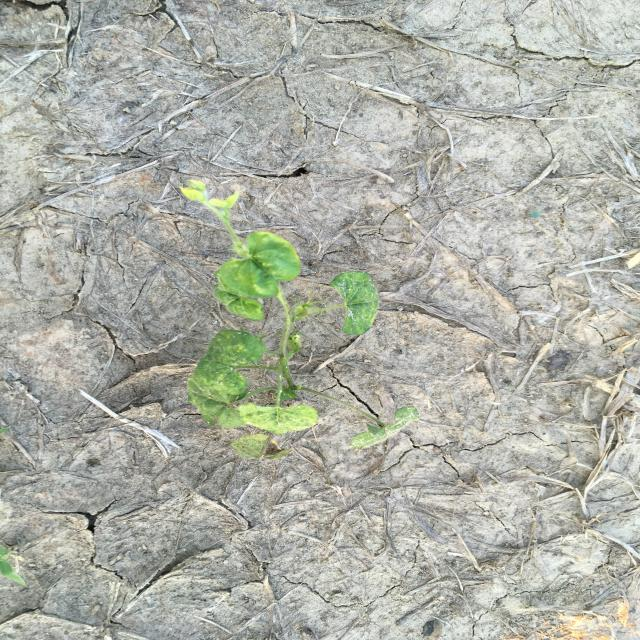MorningGlory: (176, 178, 421, 462)
